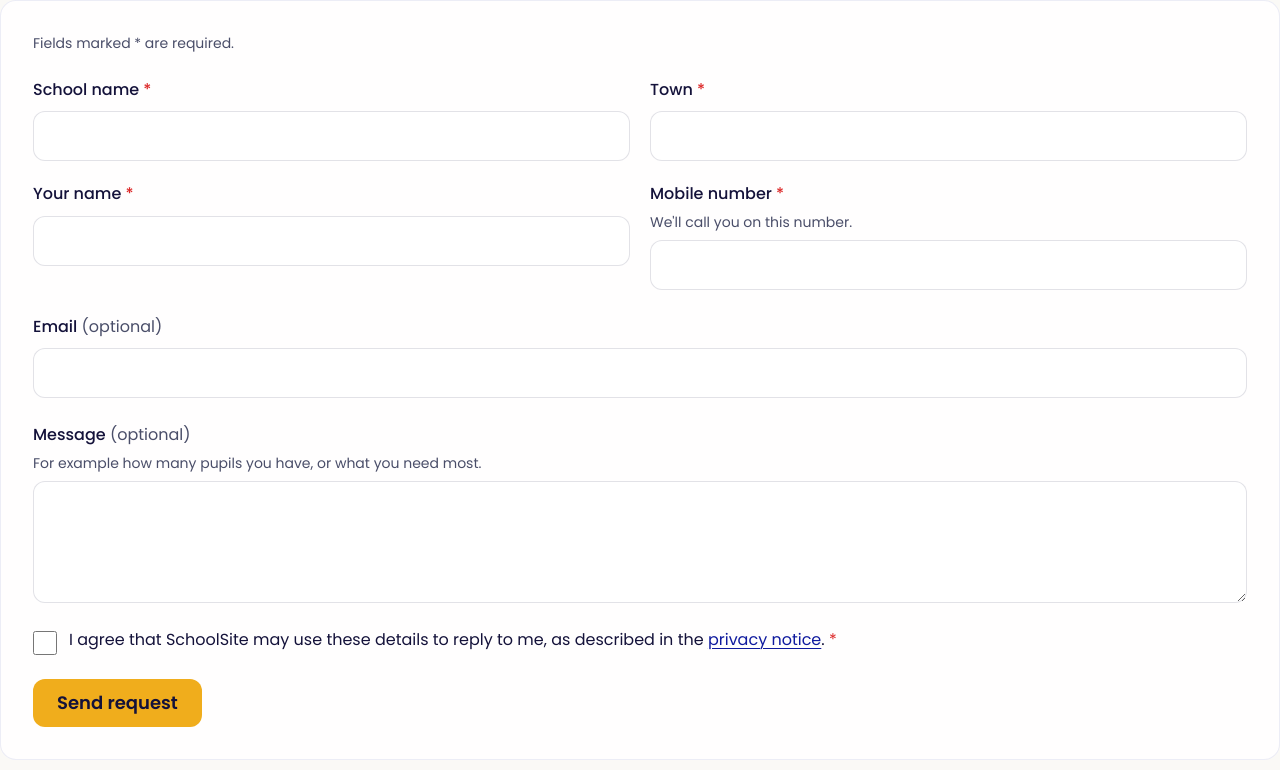
Test: LeadForm › lists what is missing and moves focus to the summary
Click the button "Send request". click: (117, 703)
box: [33,679,202,727]
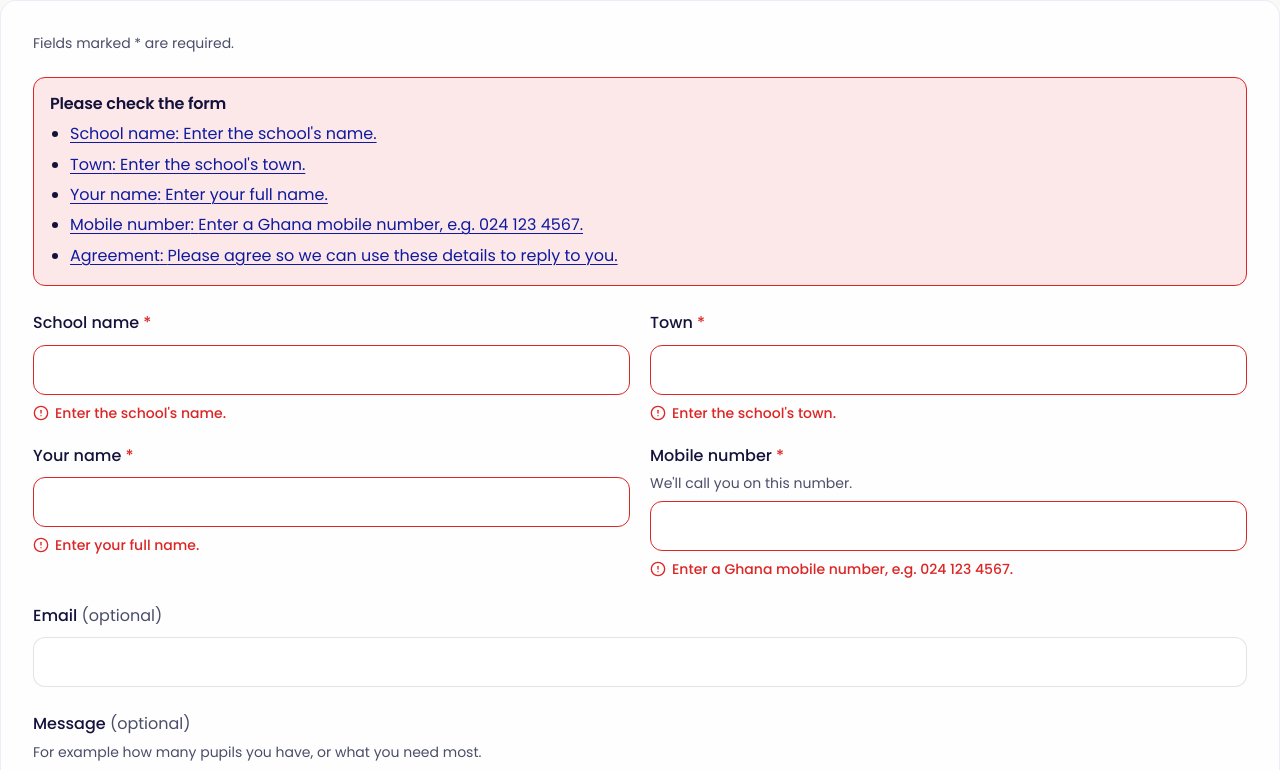
Check: the message shows "School name: Enter the school's name.", box [33,77,1247,286]
